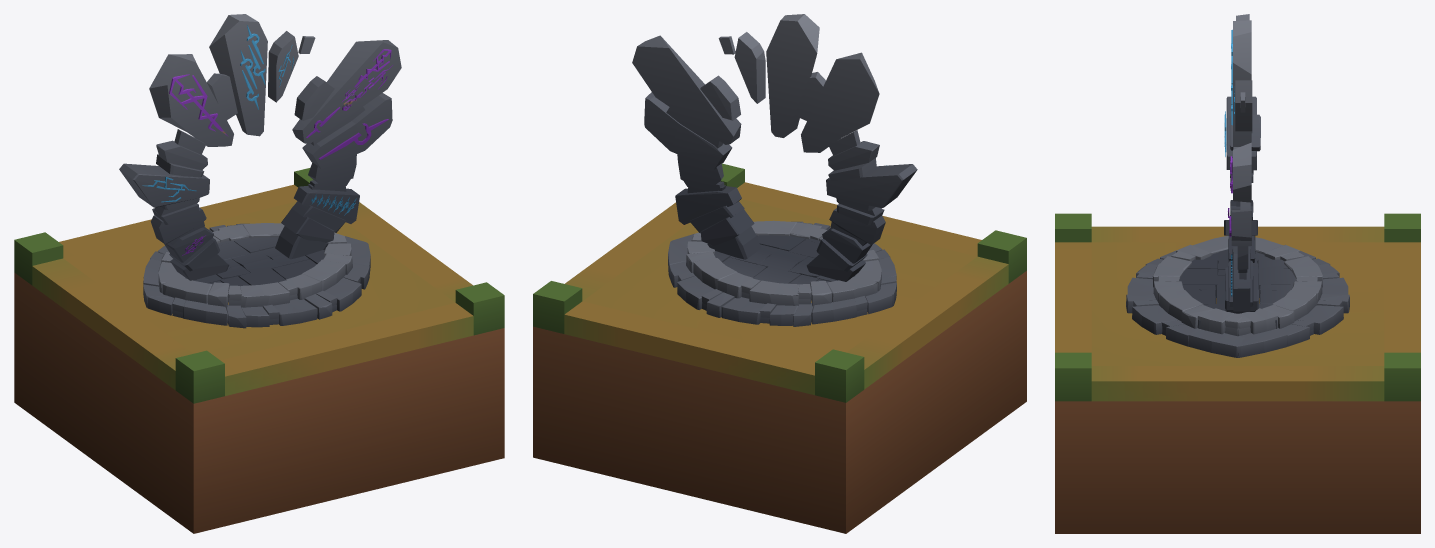
File: Chemin_Debut_nv1.fbx
3 renders of one model, left to right at view 1: azimuth 30°, elevation 25°; view 2: azimuth 150°, elevation 25°; view 3: azimuth 270°, elevation 25°, orthographic.
Parts seen in each view (by area): view 1: Chemin_Croisement.001; view 2: Chemin_Croisement.001; view 3: Chemin_Croisement.001.
Part boxes in pixels (x1,y1,x2,y2): Chemin_Croisement.001: (14,14,504,533); Chemin_Croisement.001: (533,14,1026,533); Chemin_Croisement.001: (1055,14,1420,533).
Bounding box in the file's own units: 500 × 640 × 500.
